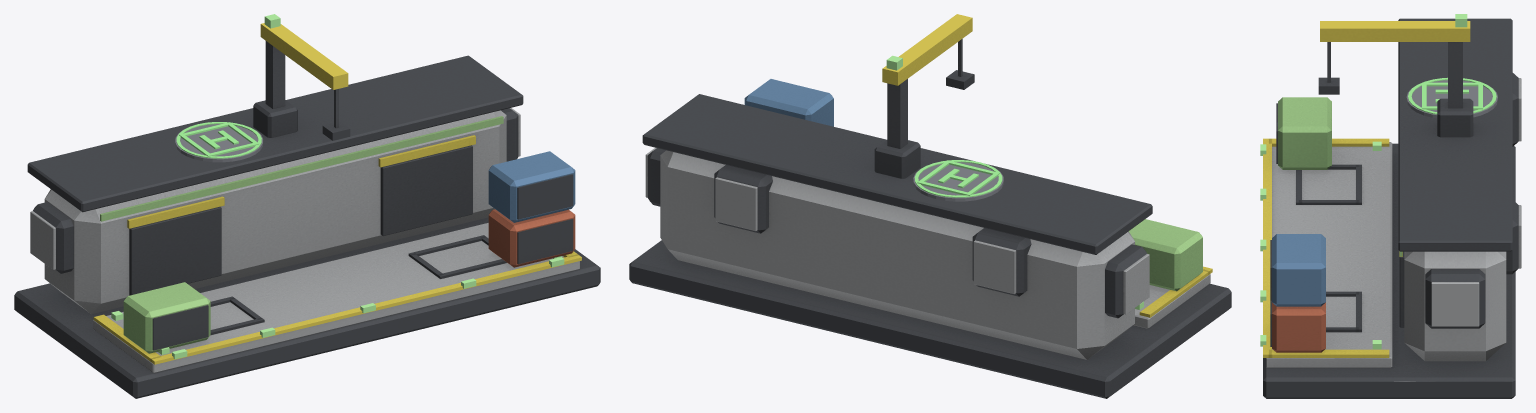
The model's file is SM_CargoTerminal.fbx.
The picture shows the model from 3 angles, left to right: view 1: azimuth 30°, elevation 25°; view 2: azimuth 150°, elevation 25°; view 3: azimuth 270°, elevation 25°; orthographic projection. The views are drawn at different scales.
Parts seen in each view (by area): view 1: SMN_CargoTerminal, Emblem_CargoTerminal, CargoLights; view 2: SMN_CargoTerminal, Emblem_CargoTerminal; view 3: SMN_CargoTerminal, Emblem_CargoTerminal, CargoLights.
Part boxes in pixels (x1=…): SMN_CargoTerminal: x1=14, y1=23, x2=600, y2=398; Emblem_CargoTerminal: x1=175, y1=122, x2=263, y2=162; CargoLights: x1=111, y1=14, x2=564, y2=359; SMN_CargoTerminal: x1=629, y1=14, x2=1231, y2=398; Emblem_CargoTerminal: x1=913, y1=160, x2=1003, y2=201; SMN_CargoTerminal: x1=1263, y1=18, x2=1521, y2=398; Emblem_CargoTerminal: x1=1406, y1=77, x2=1497, y2=118; CargoLights: x1=1260, y1=14, x2=1467, y2=349.
Bounding box in the file's own units: 1.86 × 0.975 × 0.868.
